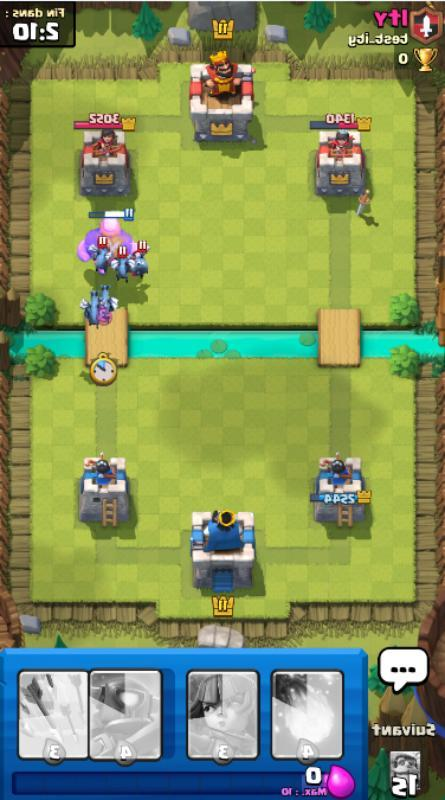gargouille: (87, 237, 115, 274), (78, 290, 106, 326), (110, 245, 134, 284), (128, 240, 150, 278)
geant: (77, 207, 137, 275)
